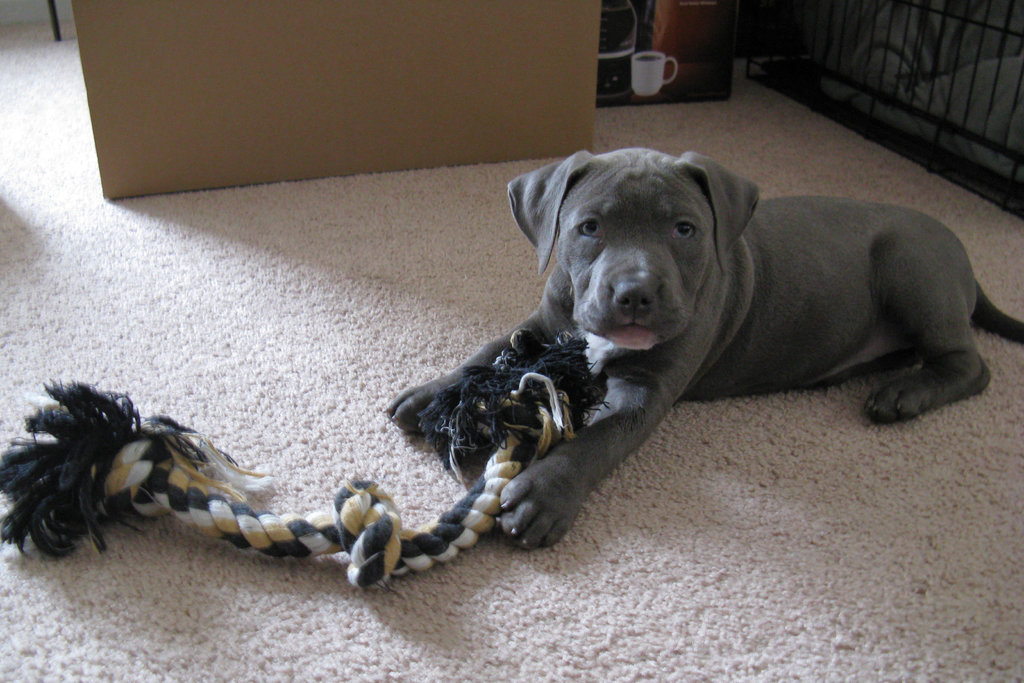Dog: (385, 149, 1023, 550)
